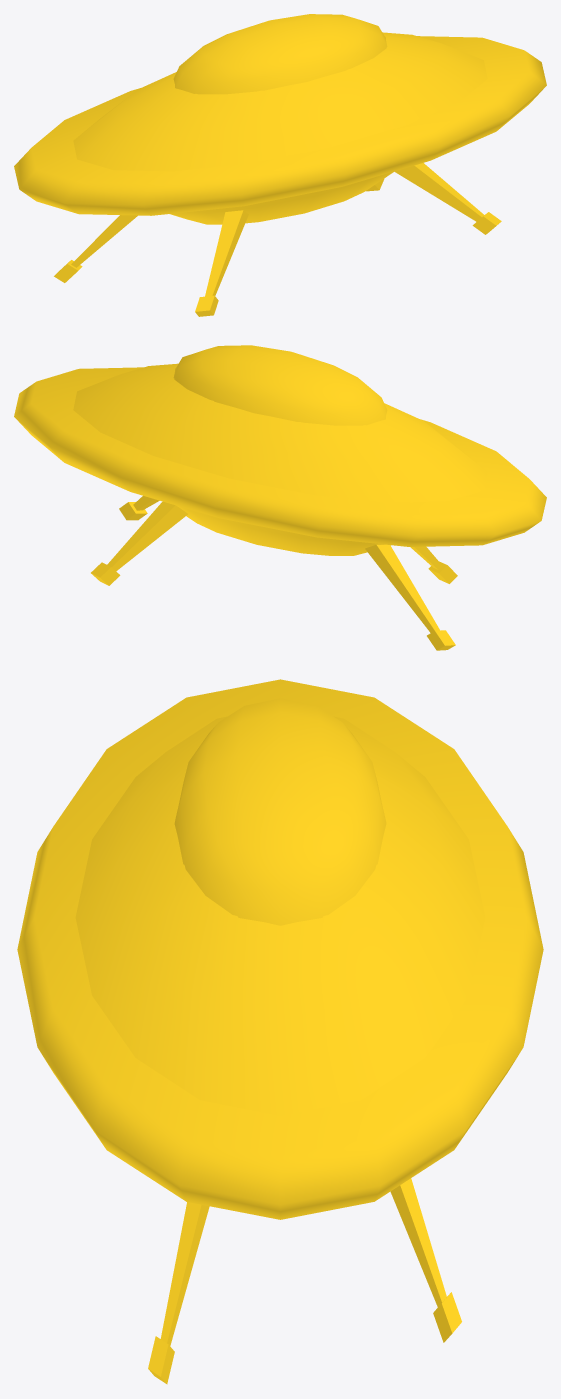
File: BoatYellow.glb
The picture shows the model from 3 angles, top to bottom: view 1: azimuth 30°, elevation 25°; view 2: azimuth 150°, elevation 25°; view 3: azimuth 270°, elevation 25°; orthographic projection. The views are drawn at different scales.
Visible parts, largest first — view 1: Mesh; view 2: Mesh; view 3: Mesh.
Part boxes in pixels (x1=…): Mesh: x1=14, y1=14, x2=546, y2=316; Mesh: x1=14, y1=345, x2=546, y2=650; Mesh: x1=17, y1=679, x2=543, y2=1384.
Size of what is drawn, in the model's own units: 5.28 by 2.22 by 2.3.
Materials: 1 (1 with a texture image).
